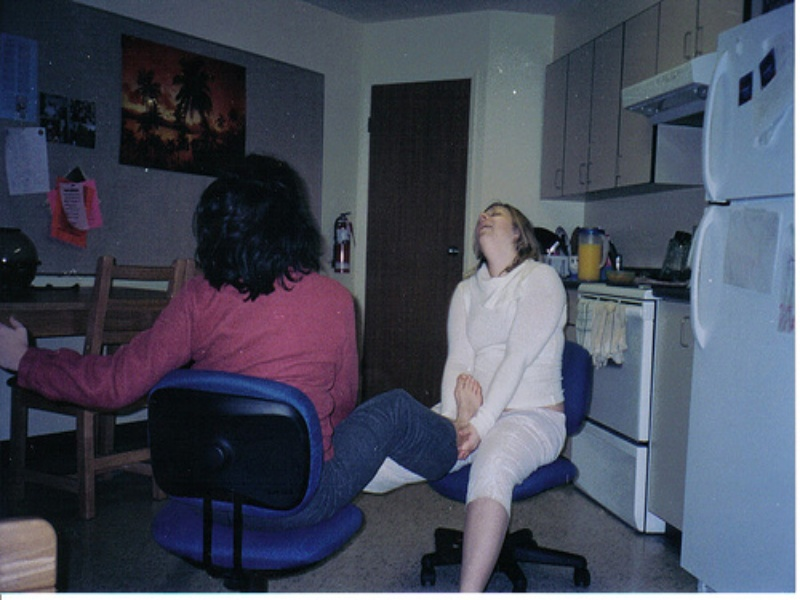person: (1, 153, 483, 531), (362, 200, 566, 594)
